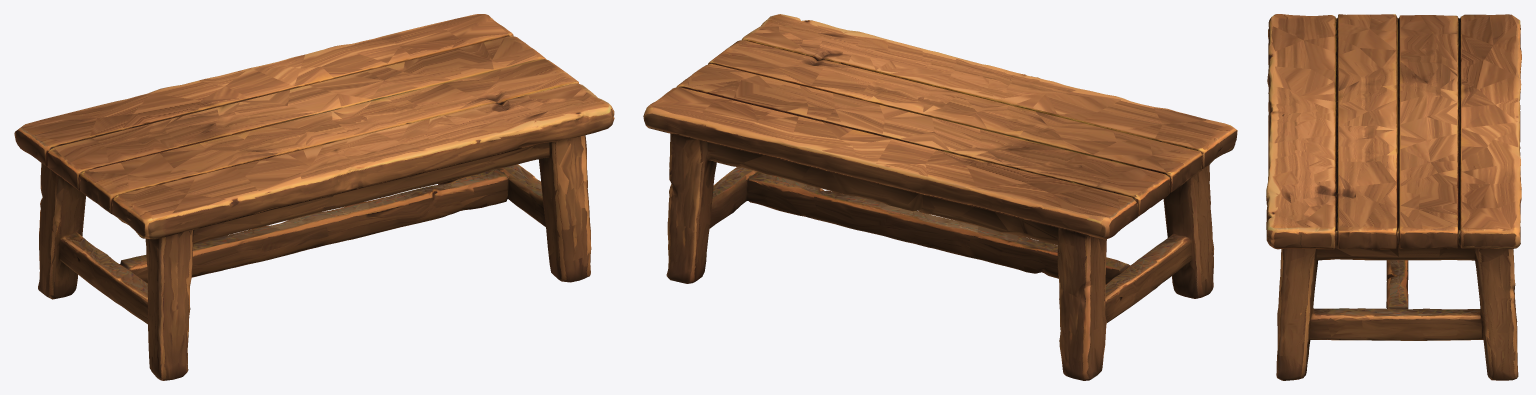
Rendered from Object_Table.fbx.
3 renders of one model, left to right at view 1: azimuth 30°, elevation 25°; view 2: azimuth 150°, elevation 25°; view 3: azimuth 270°, elevation 25°, orthographic. The views are drawn at different scales.
Parts seen in each view (by area): view 1: Mesh_0; view 2: Mesh_0; view 3: Mesh_0.
Part boxes in pixels (box(x1,y1,x2,y2)): Mesh_0: box(14, 14, 614, 380); Mesh_0: box(643, 14, 1237, 380); Mesh_0: box(1266, 14, 1521, 380).
Size of the model in its own units: 190 by 65.98 by 94.39.
